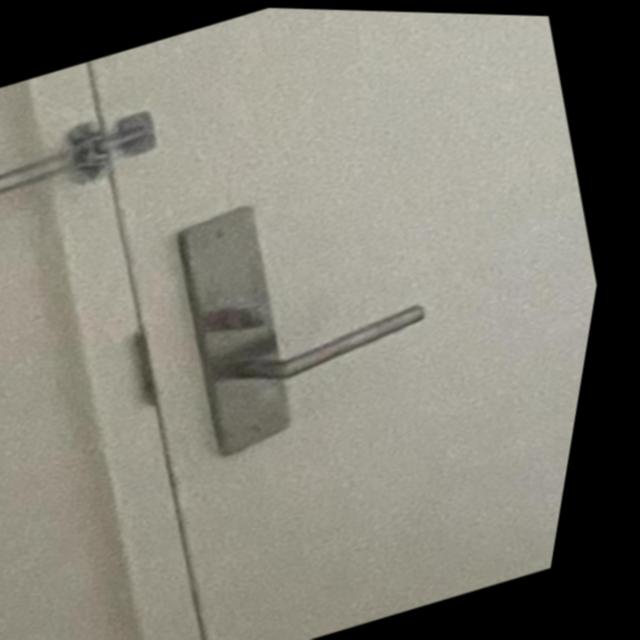door_handle: (190, 273, 470, 422)
